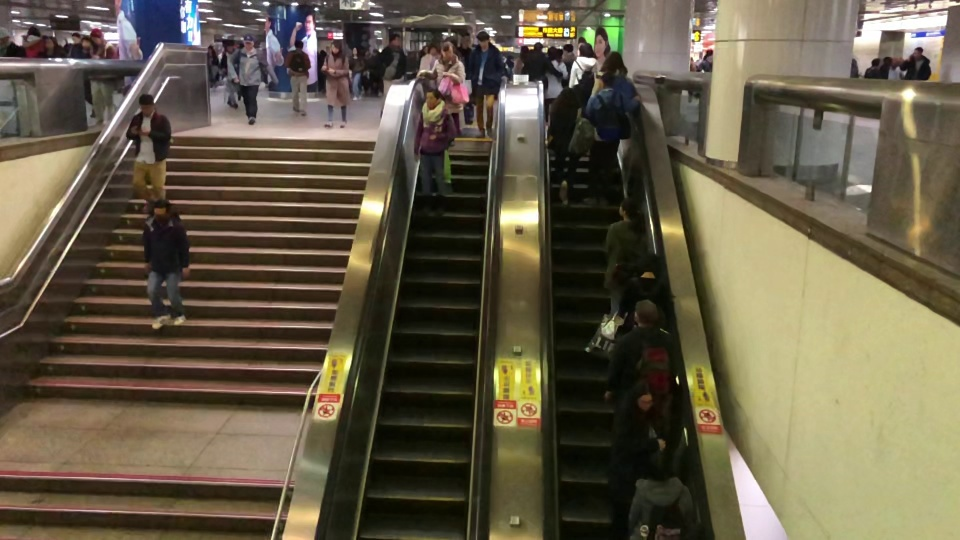person_head: (647, 448, 675, 484), (631, 296, 661, 327), (635, 249, 663, 277), (631, 381, 656, 412), (602, 50, 628, 76), (151, 197, 172, 225), (137, 92, 156, 117), (617, 197, 639, 218), (555, 88, 575, 109), (595, 71, 615, 91), (425, 87, 441, 109), (88, 27, 105, 45), (440, 42, 454, 62), (41, 34, 58, 50), (477, 30, 490, 49), (578, 43, 594, 58), (243, 33, 255, 50), (389, 32, 402, 46), (0, 26, 10, 44), (27, 25, 41, 37), (912, 45, 924, 59), (331, 39, 342, 54), (519, 44, 530, 59), (547, 46, 559, 59), (292, 38, 304, 50), (871, 58, 880, 69), (533, 43, 543, 52)
person_vbox: (603, 299, 675, 440), (605, 380, 669, 536), (583, 71, 640, 205), (625, 447, 699, 540), (141, 197, 192, 330), (546, 87, 594, 205), (602, 197, 648, 320), (413, 88, 457, 216), (125, 94, 172, 211), (416, 42, 466, 146), (228, 34, 279, 125), (618, 252, 670, 334), (469, 31, 504, 139), (589, 52, 641, 119), (85, 28, 118, 125), (319, 39, 349, 128), (377, 33, 407, 119), (541, 46, 569, 125), (521, 42, 564, 93), (285, 39, 312, 116), (567, 43, 600, 89), (898, 46, 931, 82), (21, 25, 48, 59), (0, 25, 22, 56), (36, 37, 67, 58), (863, 57, 883, 78)
